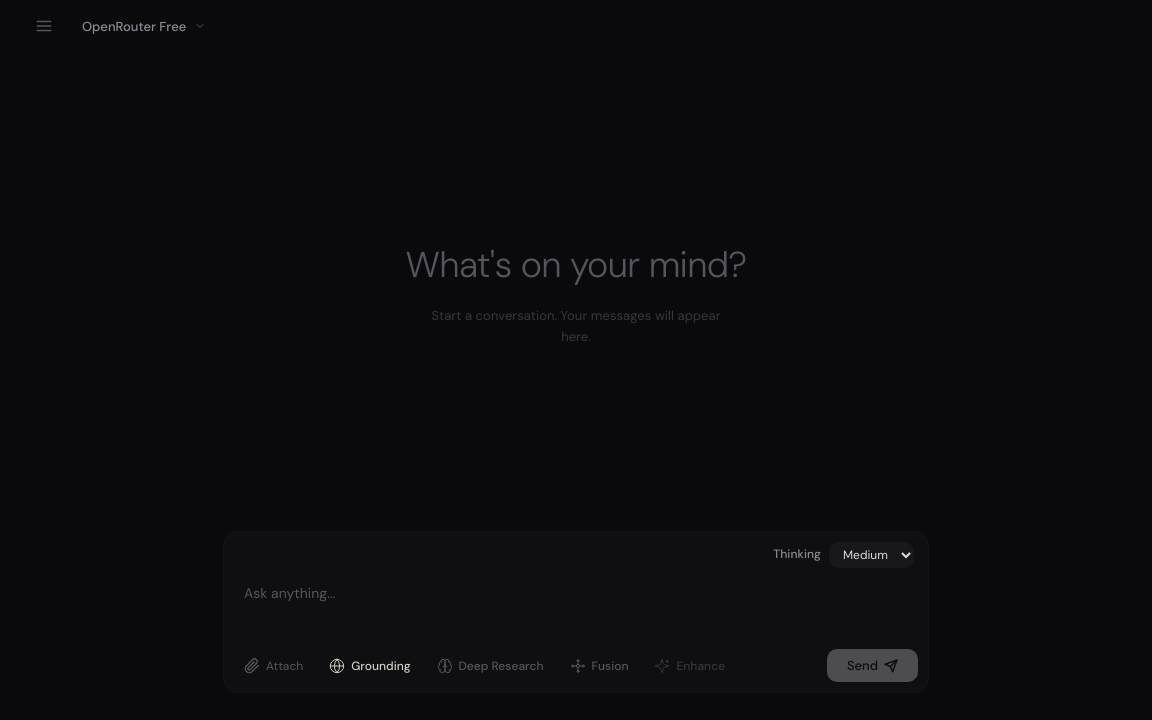
Scenario: Deep research streaming UX › renders usage details after sources when usage events are streamed
Type "Show usage" into the text box with placeholder "Ask anything..." at point(576, 601), box [224,568,928,635]
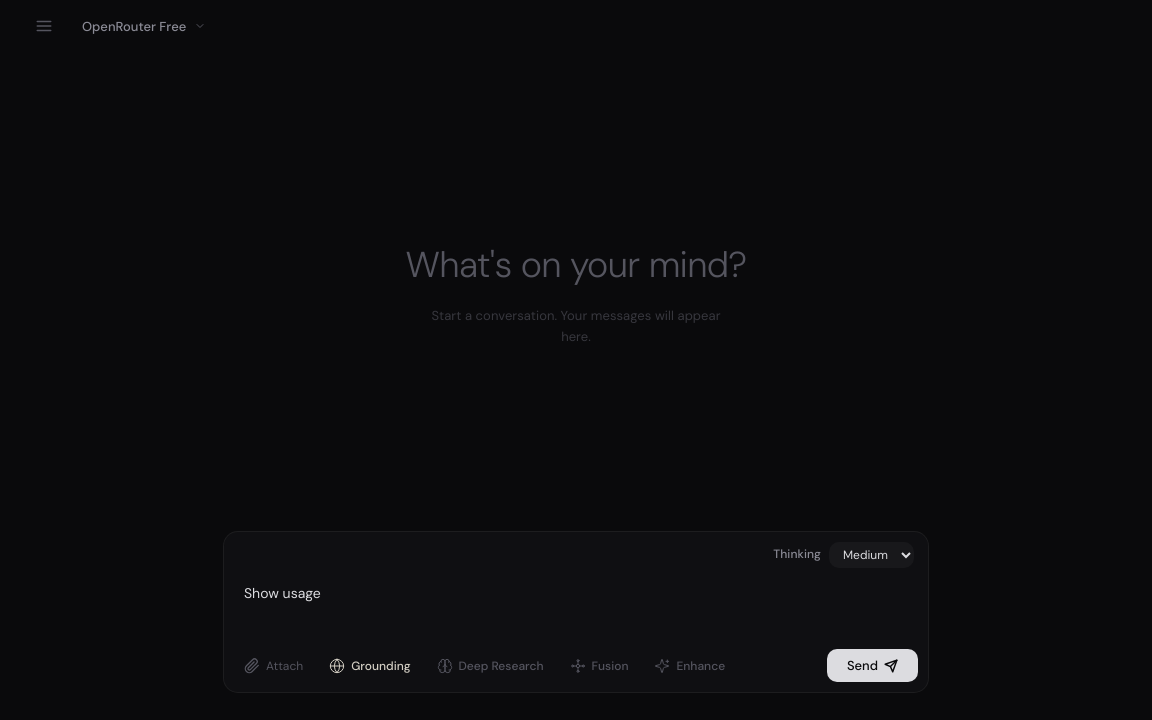
Click the button "Send" at point(872, 666), box [827,649,918,682]
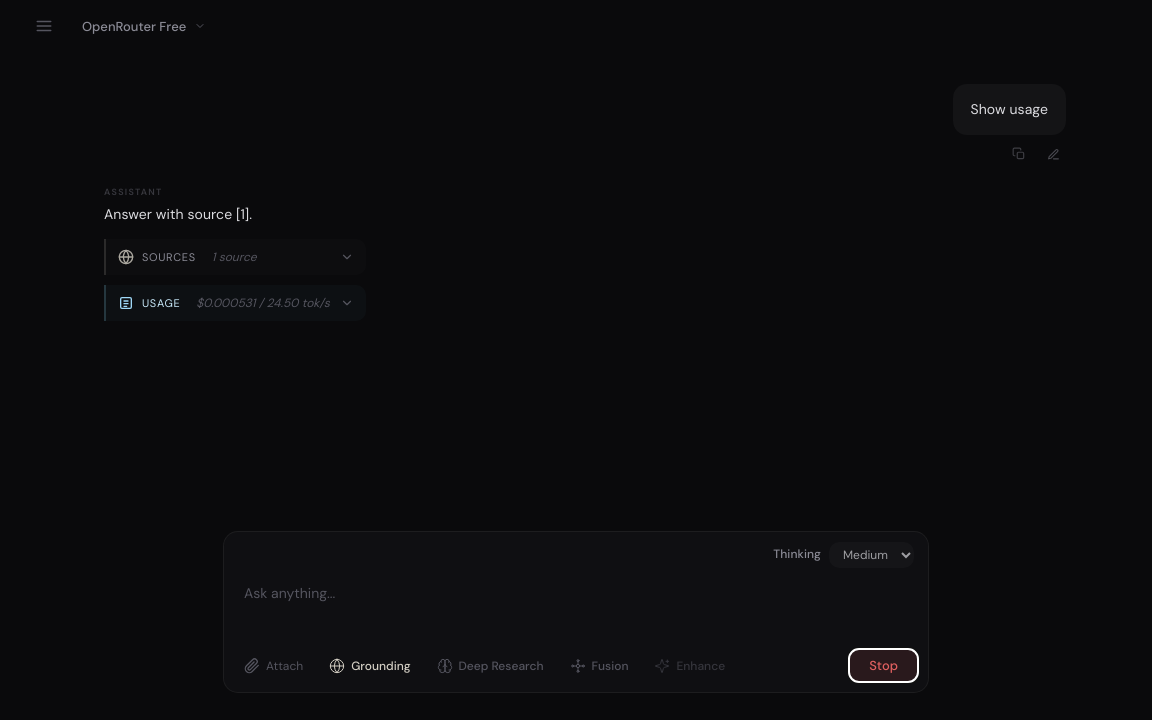
Expected: the text "$0.000531 / 24.50 tok/s" is shown, [196,295,330,311]
Click the button "Usage $0.000531 / 24.50 tok/s" at point(236, 303), box [106,285,366,321]
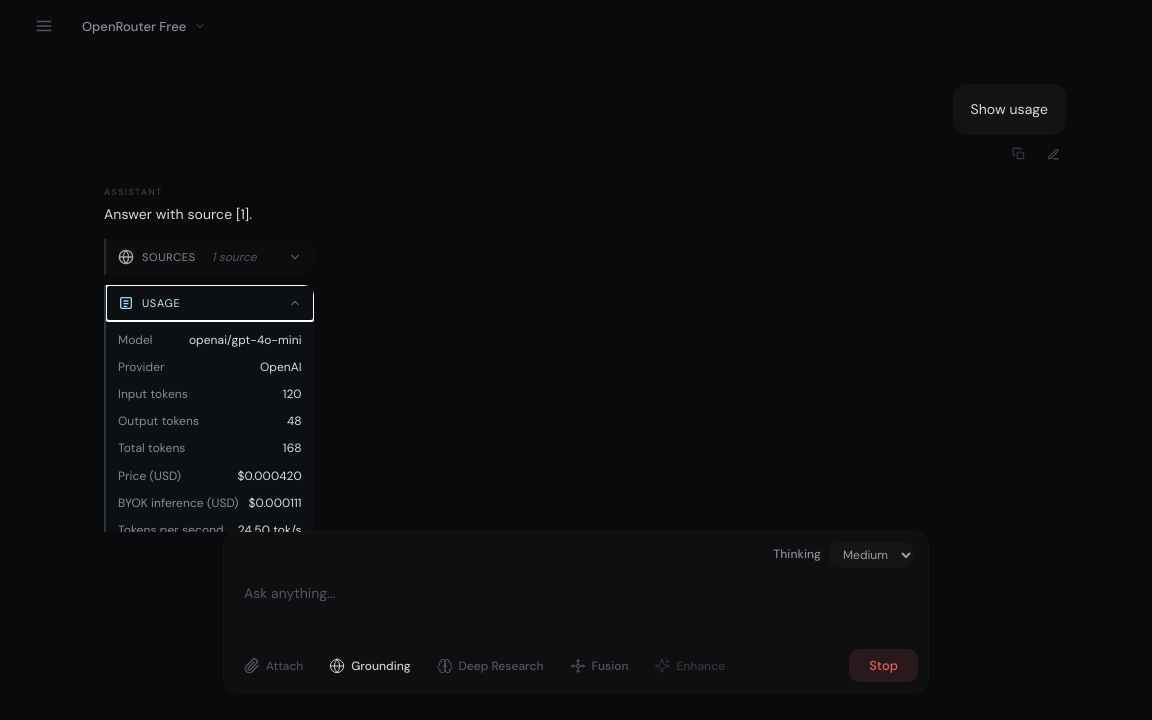
Expected: the text "Model" is shown, [118,332,153,348]
Expected: the text "openai/gpt-4o-mini" is shown, [189,331,302,350]
Expected: the text "Provider" is shown, [118,359,164,375]
